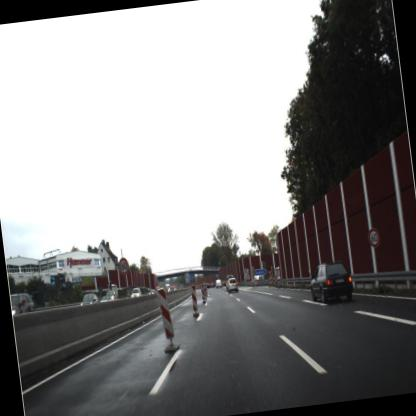prohibitory: (112, 250, 134, 284), (363, 224, 383, 251)
